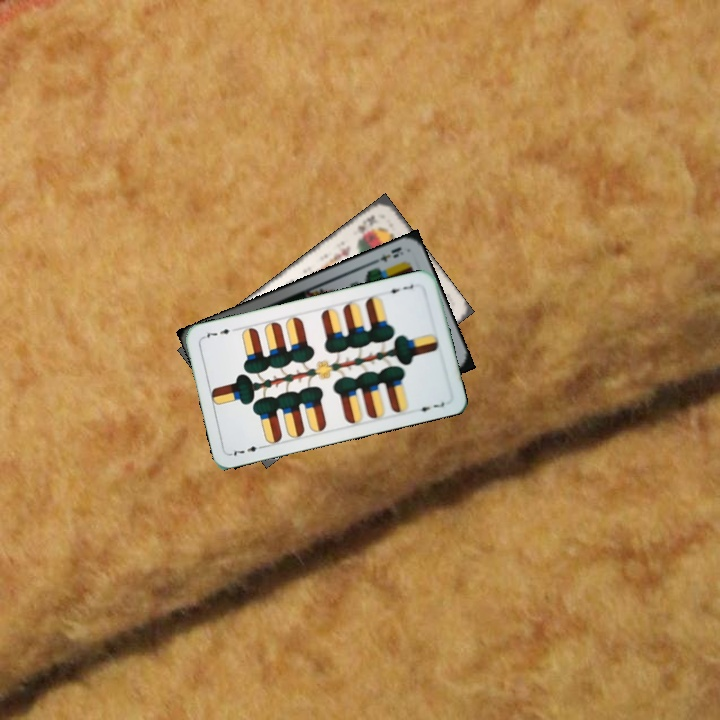E7: (227, 441, 267, 459), (382, 280, 416, 296)
EK: (368, 243, 406, 267)
SK: (354, 212, 380, 235)
